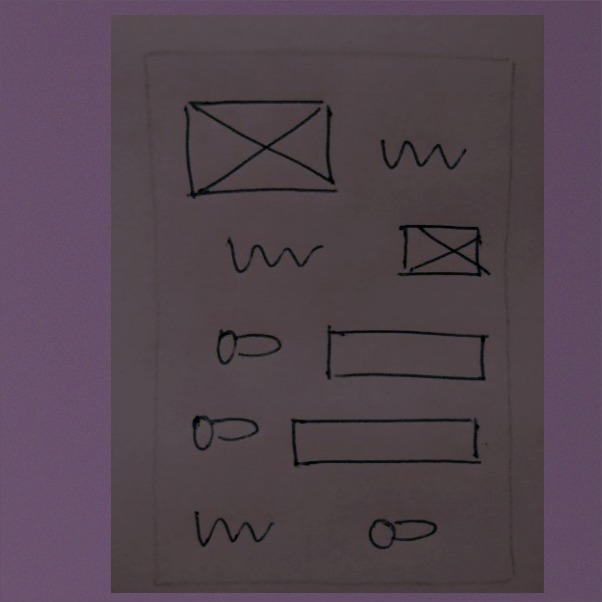image: (176, 91, 344, 211), (390, 213, 496, 295)
switch: (185, 408, 272, 469), (202, 316, 288, 376), (359, 499, 445, 559)
text: (211, 225, 329, 284), (372, 123, 470, 186), (184, 499, 285, 557)
text_input: (281, 403, 491, 476), (318, 318, 495, 390)
